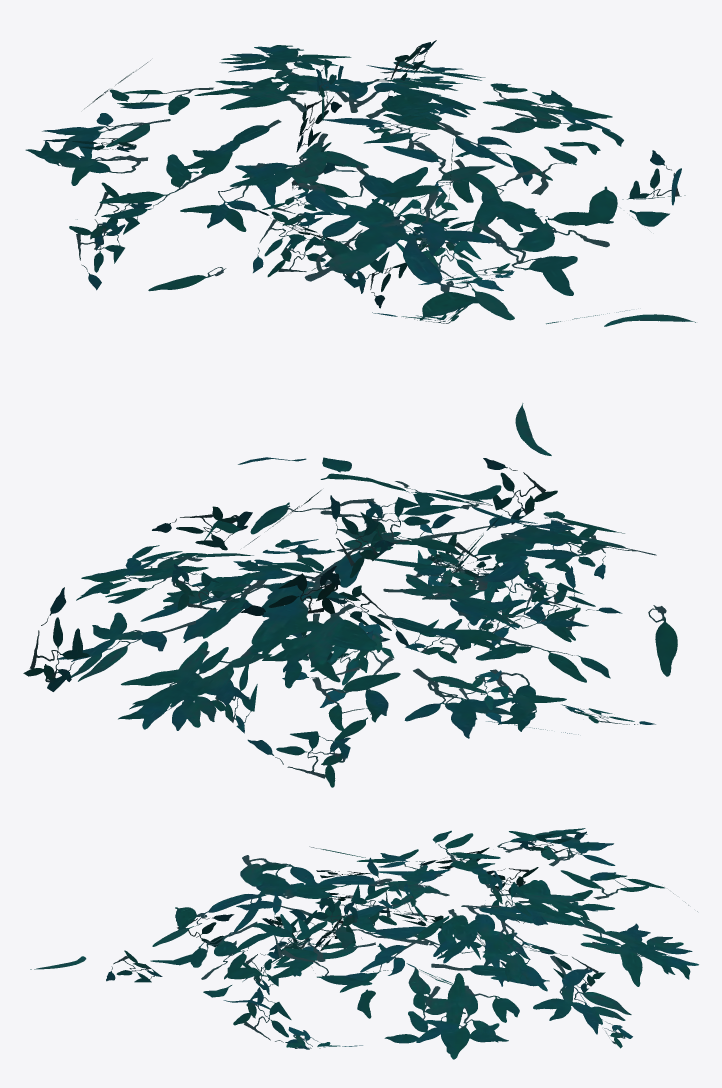
3 renders of one model, top to bottom at view 1: azimuth 30°, elevation 25°; view 2: azimuth 150°, elevation 25°; view 3: azimuth 270°, elevation 25°, orthographic. The views are drawn at different scales.
Parts seen in each view (by area): view 1: SM_BM_Leaf_Piles_02_LOD0; view 2: SM_BM_Leaf_Piles_02_LOD0; view 3: SM_BM_Leaf_Piles_02_LOD0.
Part boxes in pixels (bbox=[...]): SM_BM_Leaf_Piles_02_LOD0: bbox=[25, 40, 695, 326]; SM_BM_Leaf_Piles_02_LOD0: bbox=[23, 403, 677, 787]; SM_BM_Leaf_Piles_02_LOD0: bbox=[30, 828, 698, 1059].
Size of the model in its own units: 1.13 by 0.3177 by 1.44.
1 material, 1 textured.
